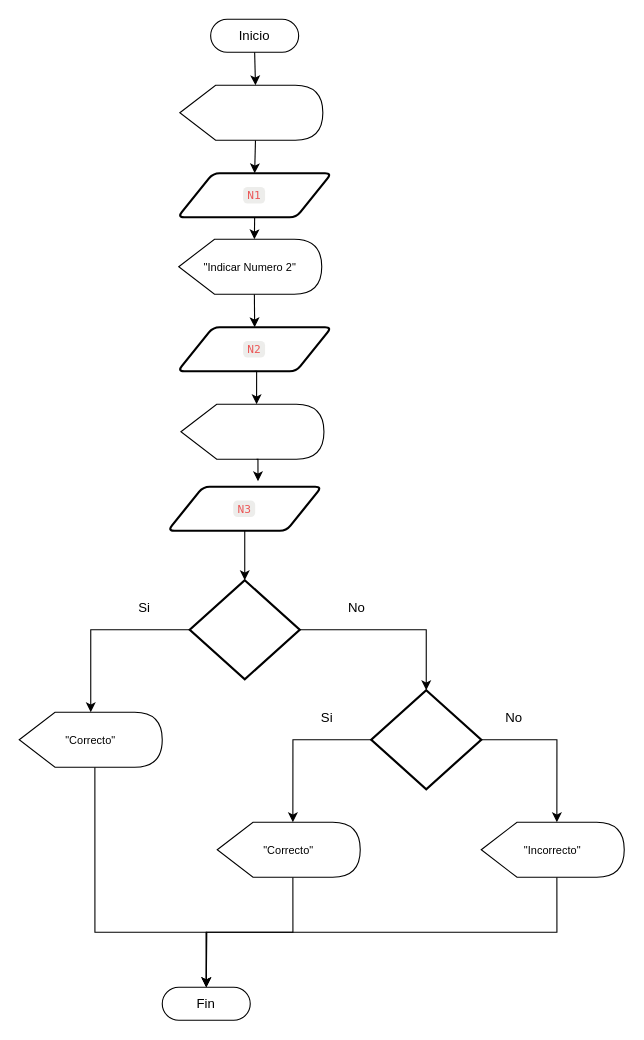
The diagram is 644 pixels wide and 1040 high, and some of its shapes have lost their labels. Here are the shapes that lost their labels. From the top down, the centre of each, then its label:
the point at 251,112: "Indicar Numero 1"
the point at 252,431: "Indicar Numero 3"
the point at 244,629: N1 o N2 o N3 = 30
the point at 426,739: N1+N2+N3 =30
